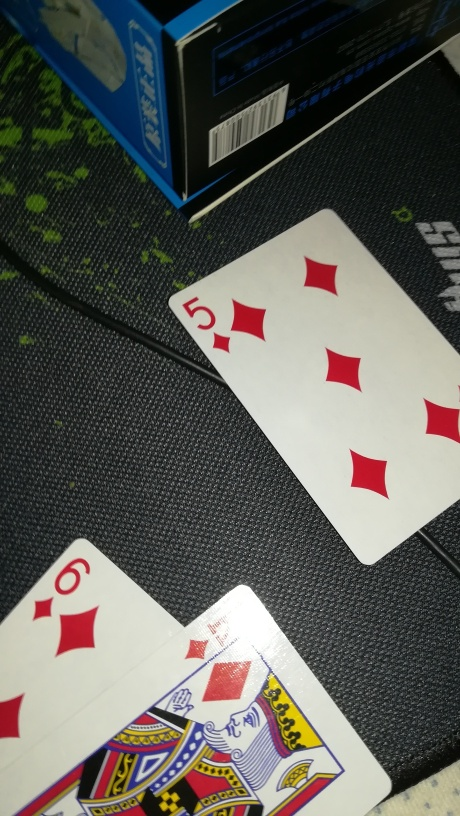fk 5: (166, 205, 460, 565)
